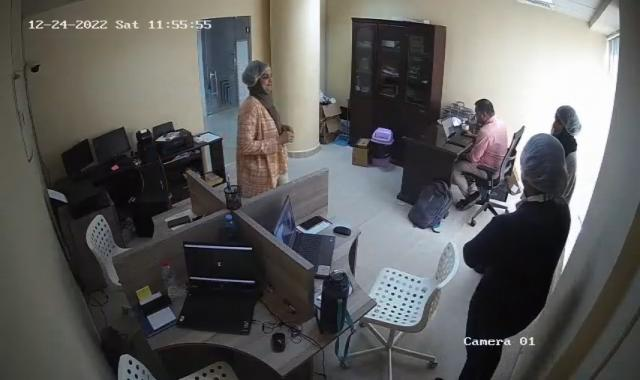hairnet: (520, 129, 569, 204), (549, 102, 583, 147), (242, 58, 274, 92)
no_hairnet: (472, 97, 496, 127)
